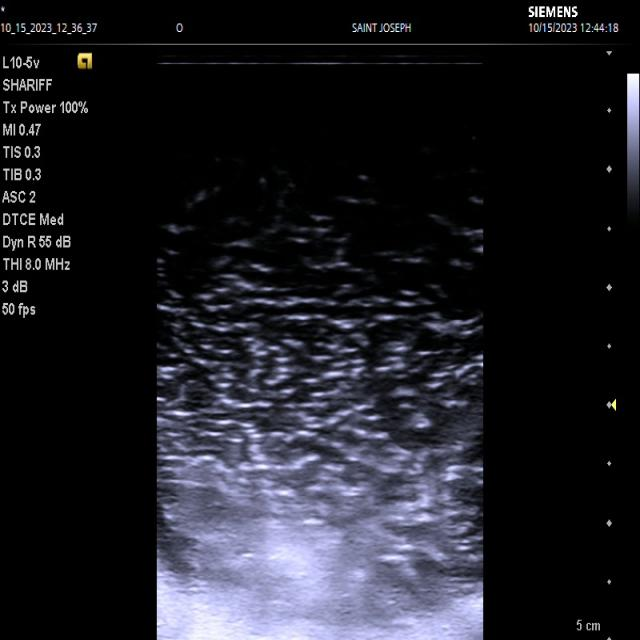tissue: (190, 483, 470, 619)
